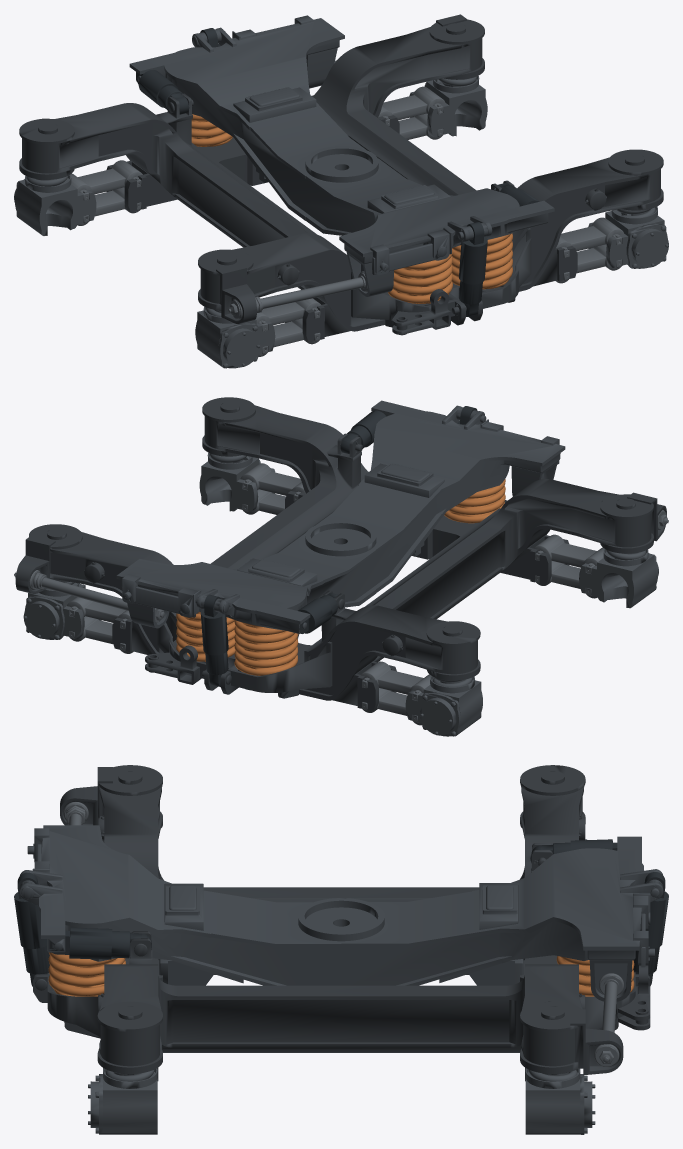
Rendered from bogie_68_4095.glb.
3 views of the same model, one above another, from view 1: azimuth 30°, elevation 25°; view 2: azimuth 150°, elevation 25°; view 3: azimuth 270°, elevation 25° (orthographic). The views are drawn at different scales.
Visible parts, largest first — view 1: pb_frame, pb_bolster, pb_axlebox_n, pb_axlebox_p, pb_springs, pb_link_p, pb_link_n, pb_vdamp, pb_ldamp, pb_blink; view 2: pb_frame, pb_bolster, pb_axlebox_n, pb_springs, pb_axlebox_p, pb_link_n, pb_link_p, pb_vdamp, pb_ldamp, pb_blink; view 3: pb_bolster, pb_frame, pb_axlebox_p, pb_vdamp, pb_springs, pb_ldamp, pb_blink.
Part boxes in pixels (x1,y1,x2,y2): pb_frame: [19, 14, 663, 342]; pb_bolster: [129, 15, 554, 296]; pb_axlebox_n: [14, 175, 275, 368]; pb_axlebox_p: [409, 76, 668, 268]; pb_springs: [191, 114, 512, 303]; pb_link_p: [378, 86, 624, 283]; pb_link_n: [70, 160, 321, 356]; pb_vdamp: [200, 28, 487, 316]; pb_ldamp: [136, 70, 539, 206]; pb_blink: [228, 60, 367, 319]; pb_frame: [15, 397, 666, 711]; pb_bolster: [116, 400, 565, 638]; pb_axlebox_n: [405, 548, 658, 736]; pb_springs: [176, 479, 505, 675]; pb_axlebox_p: [23, 452, 275, 639]; pb_link_n: [361, 534, 604, 725]; pb_link_p: [67, 463, 305, 653]; pb_vdamp: [200, 406, 477, 686]; pb_ldamp: [298, 410, 386, 633]; pb_blink: [14, 510, 668, 623]; pb_bolster: [19, 825, 663, 1001]; pb_frame: [33, 765, 650, 1081]; pb_axlebox_p: [88, 1068, 595, 1134]; pb_vdamp: [14, 872, 668, 986]; pb_springs: [48, 952, 634, 996]; pb_ldamp: [52, 839, 617, 959]; pb_blink: [63, 802, 623, 1066].
Size of the model in its own units: 2.98 by 0.7192 by 3.12.
